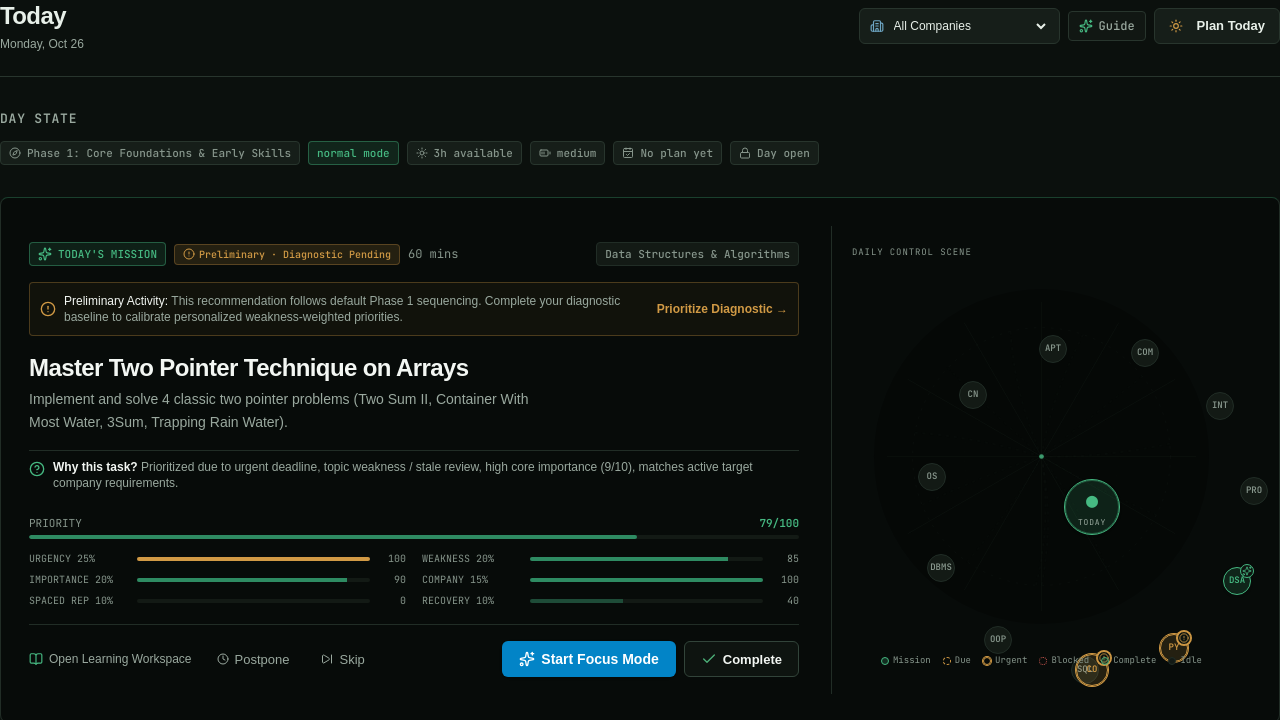
Scenario: §8 Today Company Focus panel › appears once a company is selected and explains itself in plain language
Select "Dated Corp (2026-10-31)" in the dropdown with test id "company-focus-select". click: (969, 26)
box: [890,18,1049,34]
(page scrolled)
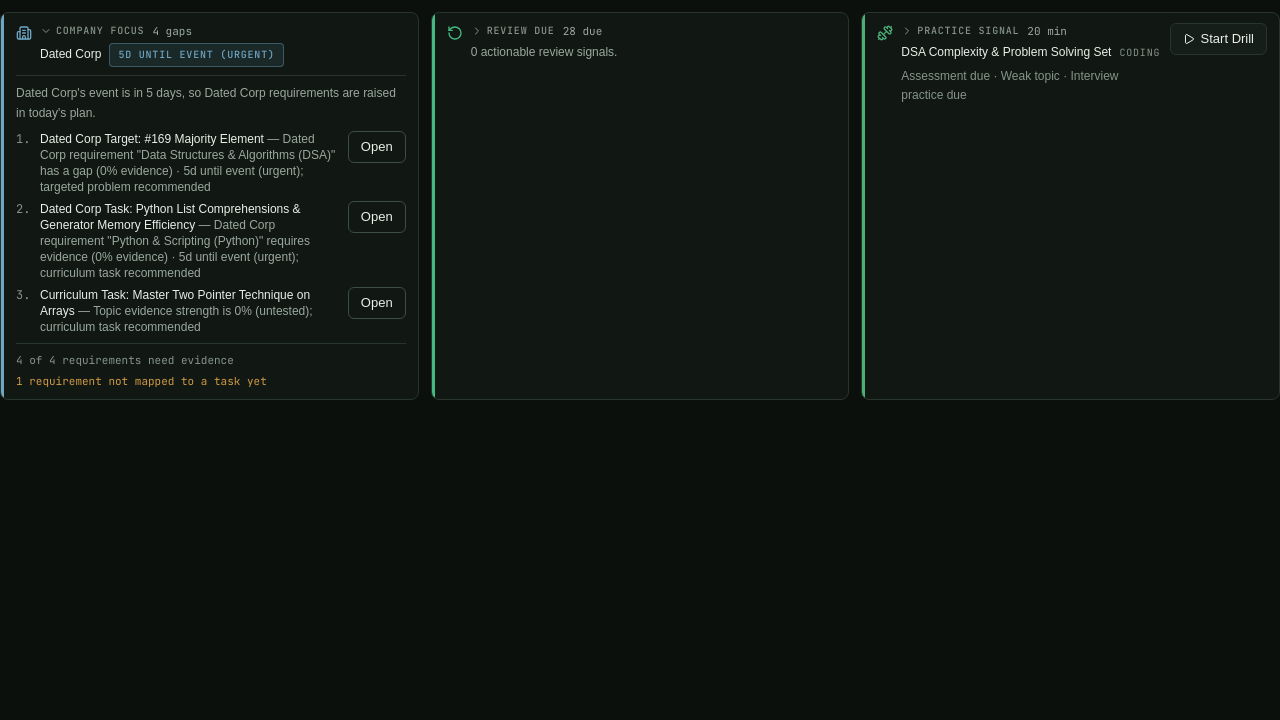
Result: the element with test id "company-focus-summary" is shown at [0,12,419,400]
Result: the element with test id "company-focus-summary" shows "Dated Corp" at [40,47,101,61]
Result: the text with test id "company-focus-reason" shows "Dated Corp" at [16,86,396,120]
